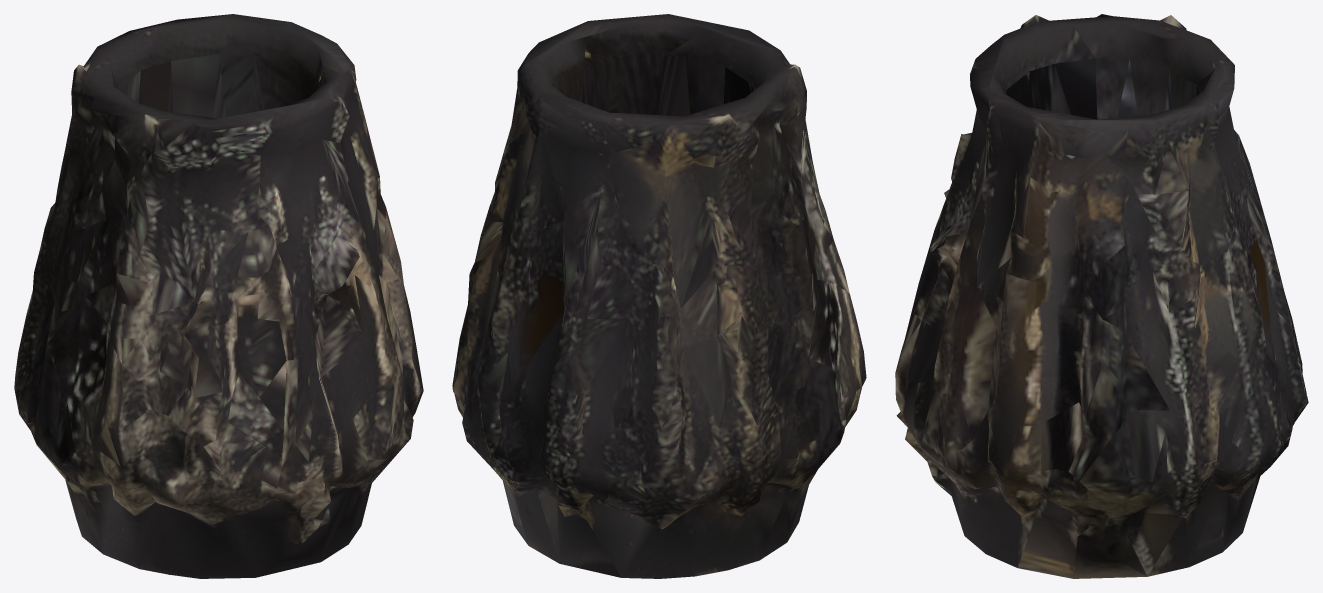
The model's file is MaterialPlace_03.glb.
3 renders of one model, left to right at view 1: azimuth 30°, elevation 25°; view 2: azimuth 150°, elevation 25°; view 3: azimuth 270°, elevation 25°, orthographic.
Visible parts, largest first — view 1: Meshy_AI_Row_of_Earthy_Ceramic_0509115641_texture.002; view 2: Meshy_AI_Row_of_Earthy_Ceramic_0509115641_texture.002; view 3: Meshy_AI_Row_of_Earthy_Ceramic_0509115641_texture.002.
Boxes of the visible parts, box(x1,y1,x2,y2) form: Meshy_AI_Row_of_Earthy_Ceramic_0509115641_texture.002: box(14, 14, 423, 578); Meshy_AI_Row_of_Earthy_Ceramic_0509115641_texture.002: box(452, 14, 866, 578); Meshy_AI_Row_of_Earthy_Ceramic_0509115641_texture.002: box(895, 14, 1308, 578).
Bounding box in the file's own units: 0.2995 × 0.3762 × 0.3104.
Materials: 1 (1 with a texture image).
